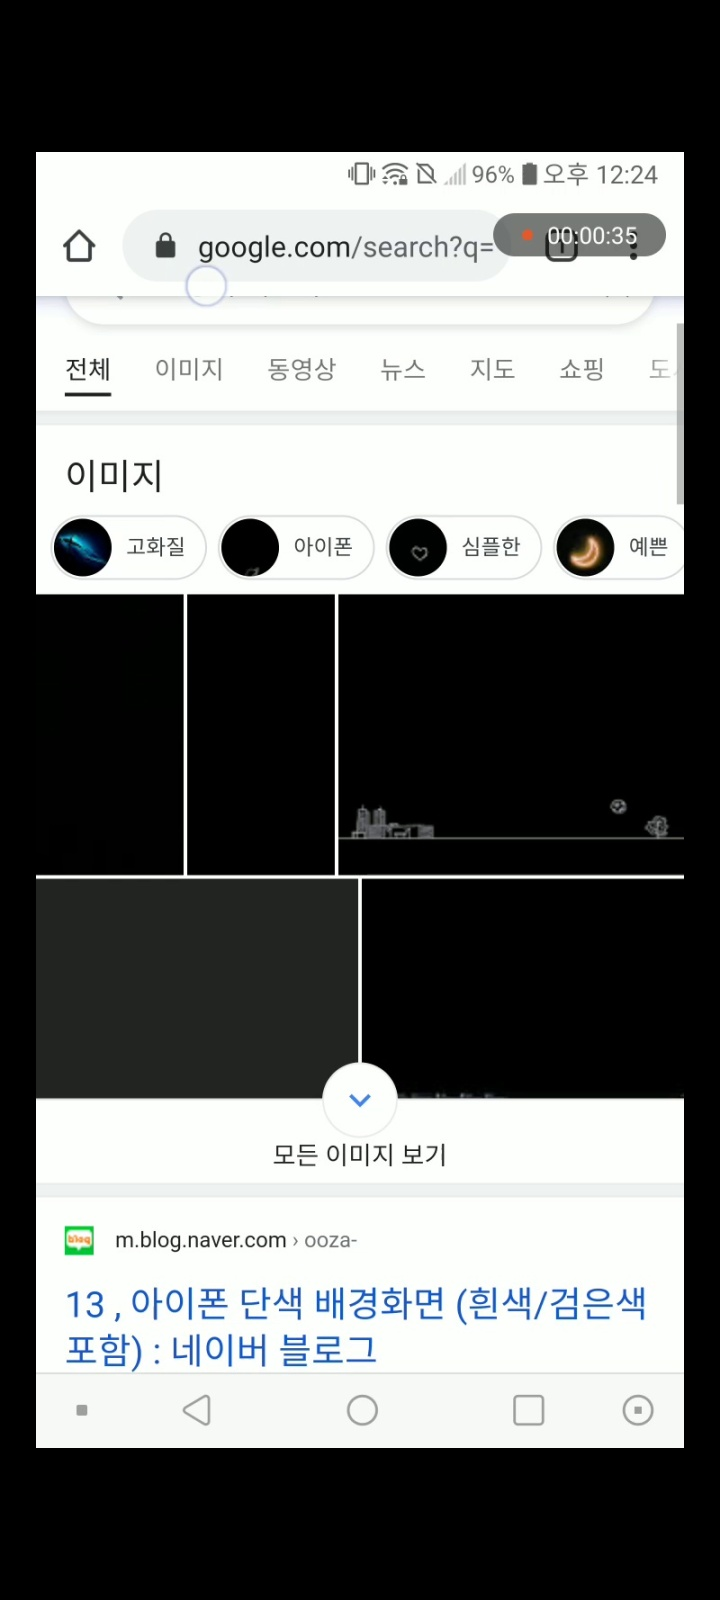Cursor: (185, 263, 230, 308)
